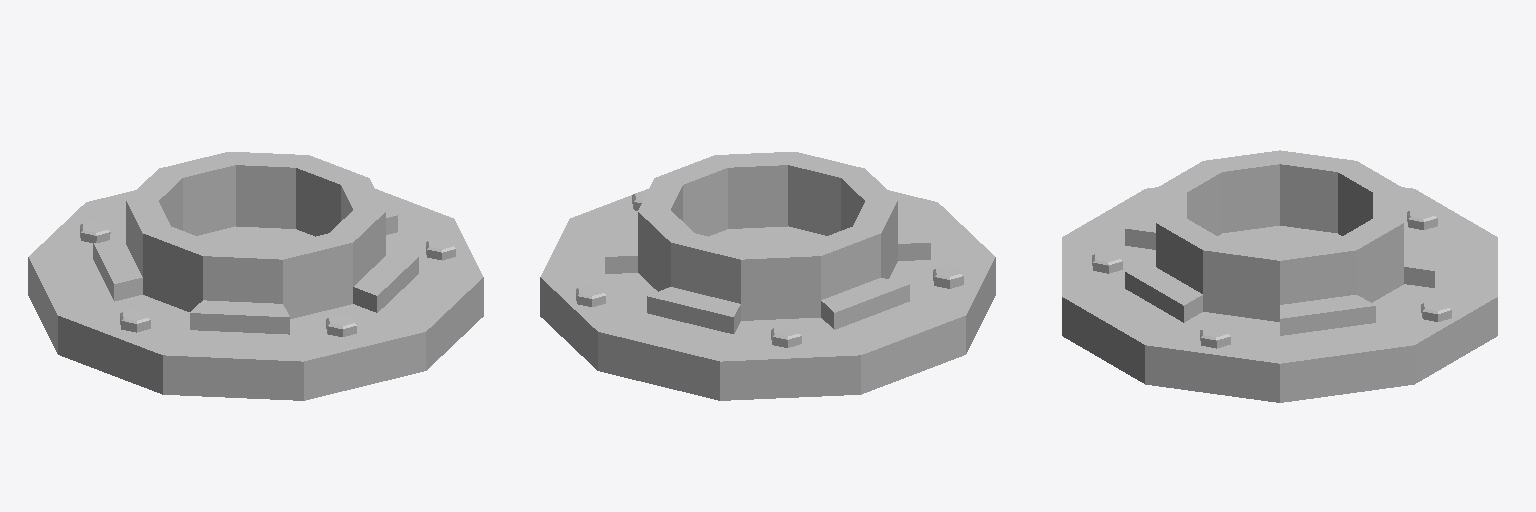
File: PipeW1.obj
3 renders of one model, left to right at view 1: azimuth 30°, elevation 25°; view 2: azimuth 150°, elevation 25°; view 3: azimuth 270°, elevation 25°, orthographic.
Parts seen in each view (by area): view 1: Pipe_G_Pipe_gpolySurface69; view 2: Pipe_G_Pipe_gpolySurface69; view 3: Pipe_G_Pipe_gpolySurface69.
Boxes of the visible parts, x1=… form: Pipe_G_Pipe_gpolySurface69: x1=28, y1=152, x2=483, y2=400; Pipe_G_Pipe_gpolySurface69: x1=540, y1=152, x2=995, y2=400; Pipe_G_Pipe_gpolySurface69: x1=1062, y1=150, x2=1497, y2=402.
Bounding box in the file's own units: 1.04 × 0.253 × 0.9906.